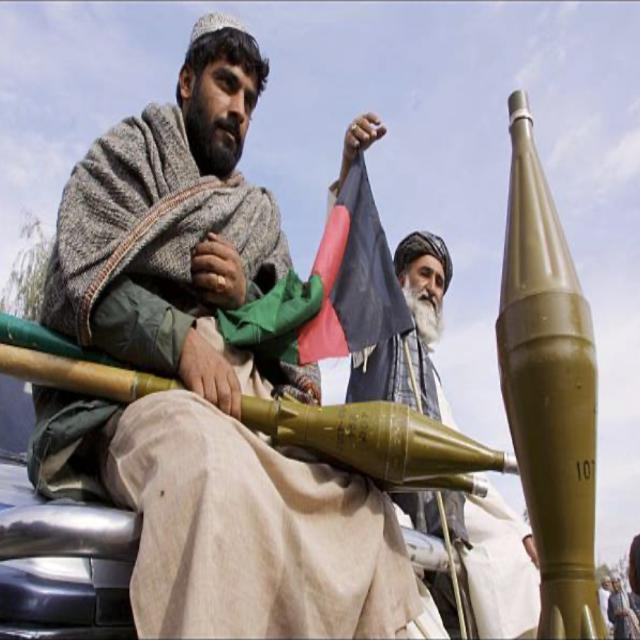bazooka: (11, 327, 550, 501), (490, 72, 625, 634)
